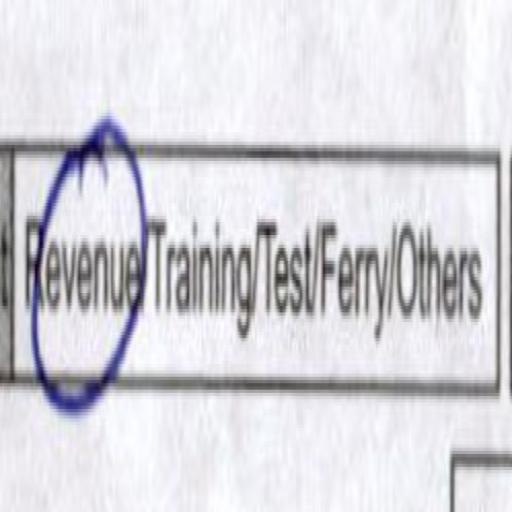check: (19, 84, 154, 456)
